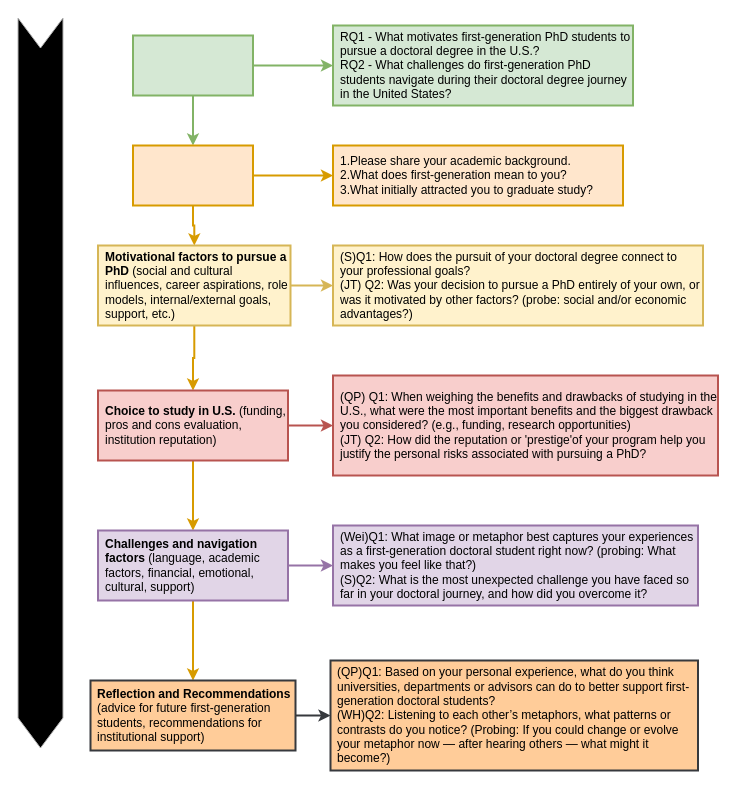
The diagram is 736 pixels wide and 788 high, and some of its shapes have lost their labels. Here are the shapes that lost their labels. From the top down, the box of each, then its label:
(132, 34, 254, 96): Overall Research Question s
(132, 144, 254, 206): Rapport Building
